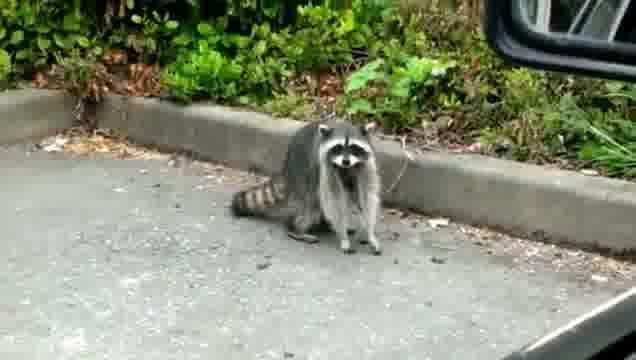raccoon: (227, 117, 391, 256)
